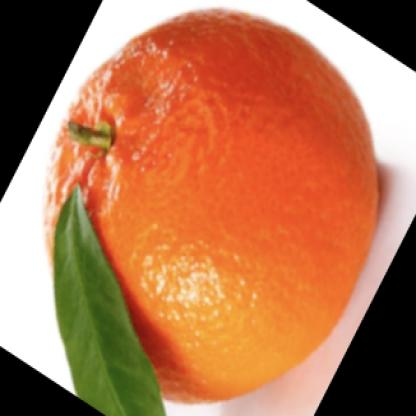fresh: (44, 11, 381, 407)
